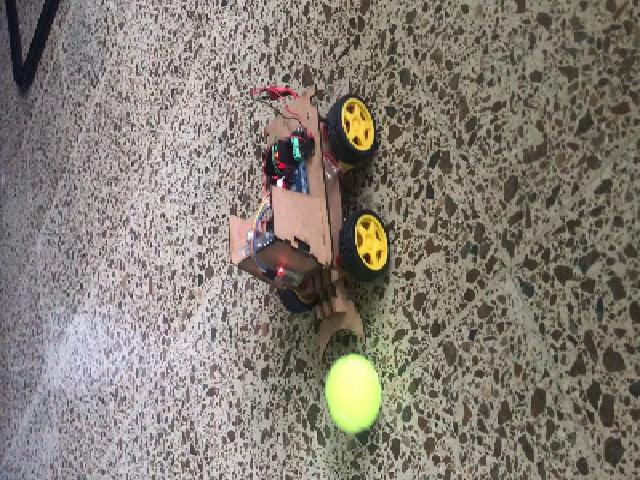Ball: (322, 353, 382, 437)
Robot: (227, 84, 392, 360)
